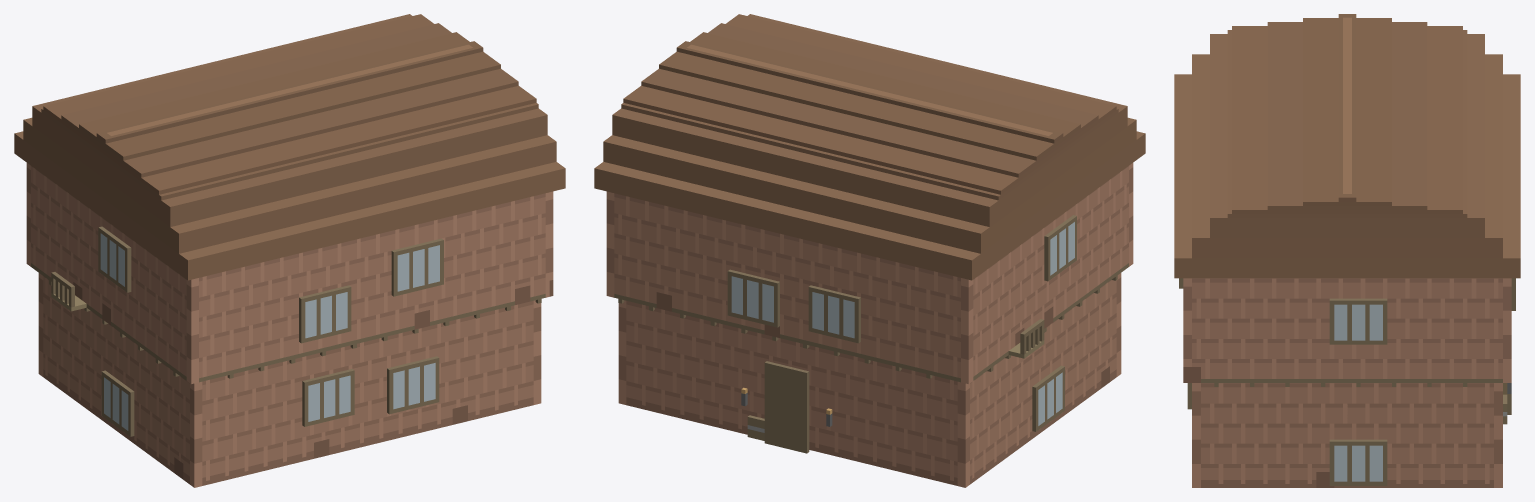
Rendered from casa_modesta_03.glb.
The picture shows the model from 3 angles, left to right: view 1: azimuth 30°, elevation 25°; view 2: azimuth 150°, elevation 25°; view 3: azimuth 270°, elevation 25°; orthographic projection.
Parts seen in each view (by area): view 1: casa_modesta_03; view 2: casa_modesta_03; view 3: casa_modesta_03.
Part boxes in pixels (x1,y1,x2,y2): casa_modesta_03: [14, 14, 565, 487]; casa_modesta_03: [594, 14, 1145, 487]; casa_modesta_03: [1174, 14, 1520, 487].
Size of the model in its own units: 10 by 7.4 by 7.8.
